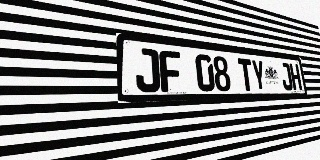0: (195, 54, 215, 92)
8: (212, 55, 231, 91)
F: (159, 50, 183, 92)
H: (289, 63, 302, 90)
J: (134, 47, 161, 92), (280, 62, 293, 90)
T: (238, 58, 255, 91)
Y: (251, 59, 267, 91)
